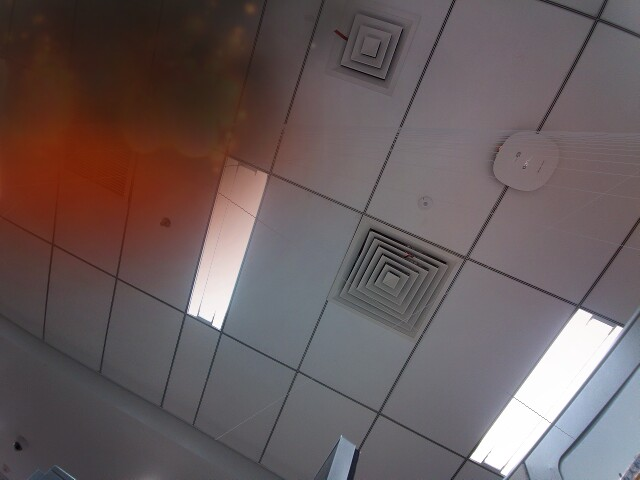fire: (178, 121, 220, 160)
